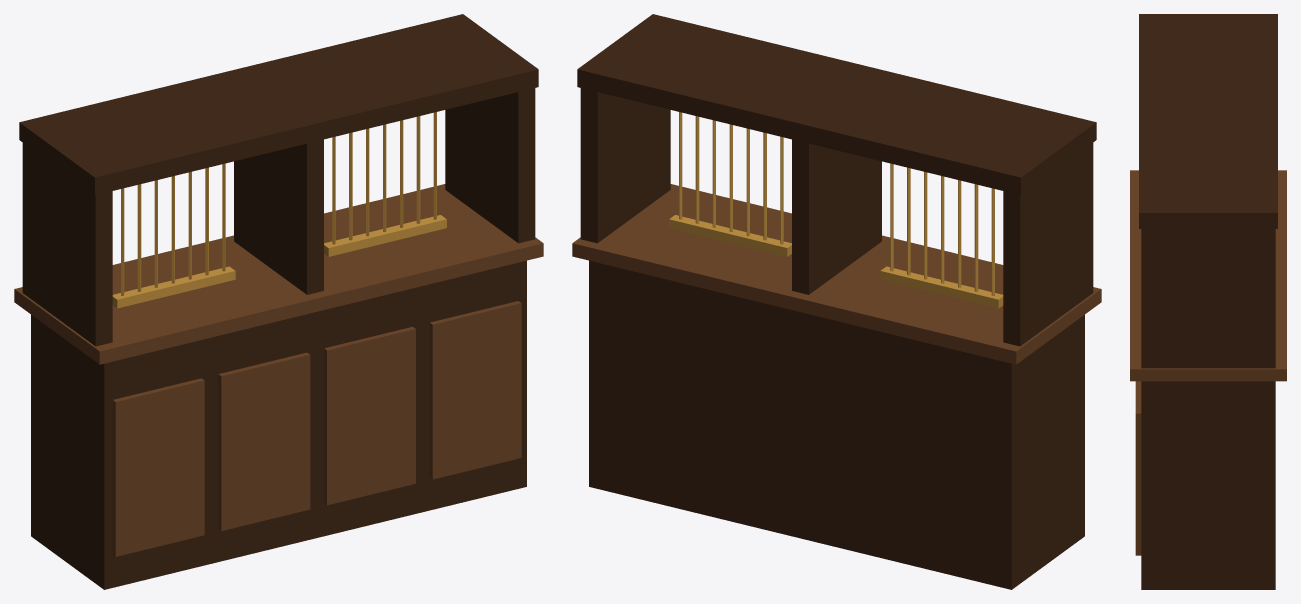
File: SM_Bank_Counter.obj
The picture shows the model from 3 angles, left to right: view 1: azimuth 30°, elevation 25°; view 2: azimuth 150°, elevation 25°; view 3: azimuth 270°, elevation 25°; orthographic projection. The views are drawn at different scales.
Parts seen in each view (by area): view 1: SM_Bank_Counter; view 2: SM_Bank_Counter; view 3: SM_Bank_Counter.
Part boxes in pixels (x1,y1,x2,y2): SM_Bank_Counter: (14, 14, 543, 589); SM_Bank_Counter: (572, 14, 1101, 589); SM_Bank_Counter: (1130, 14, 1286, 589).
Size of the model in its own units: 2.1 by 1.88 by 0.7.
